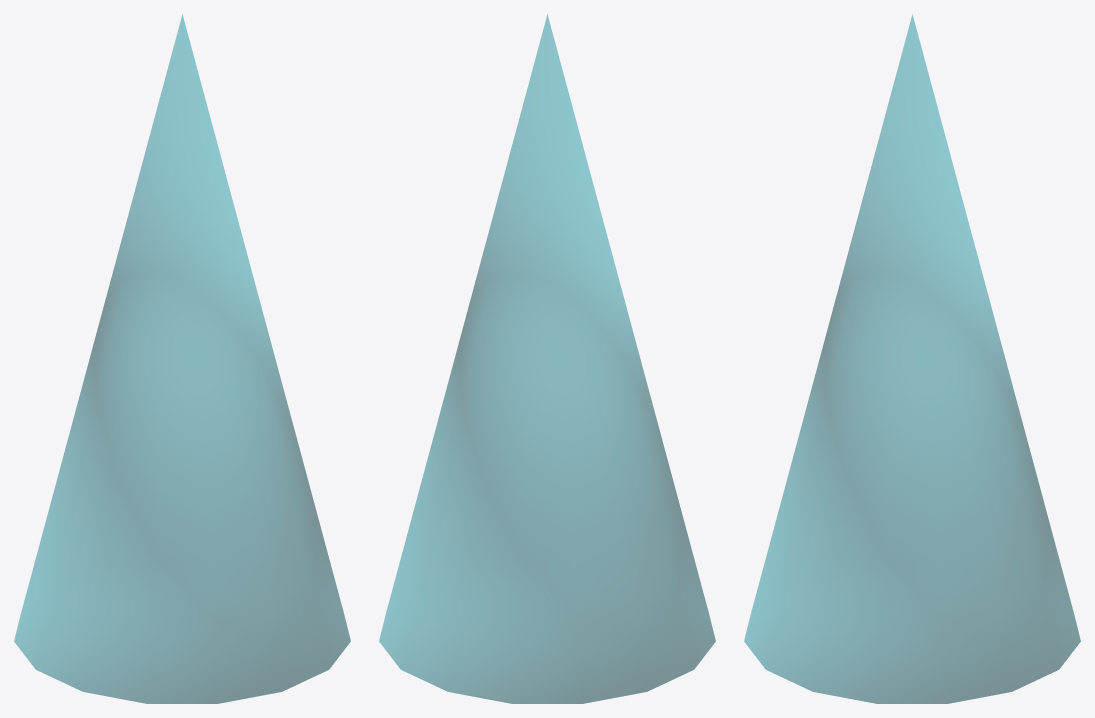
3 views of the same model, side by side, from view 1: azimuth 30°, elevation 25°; view 2: azimuth 150°, elevation 25°; view 3: azimuth 270°, elevation 25° (orthographic).
Visible parts, largest first — view 1: Cone; view 2: Cone; view 3: Cone.
Part boxes in pixels (box(x1,y1,x2,y2)): Cone: box(14, 14, 350, 703); Cone: box(379, 14, 715, 703); Cone: box(744, 14, 1080, 703).
Size of the model in its own units: 39.56 by 80.76 by 39.78.
